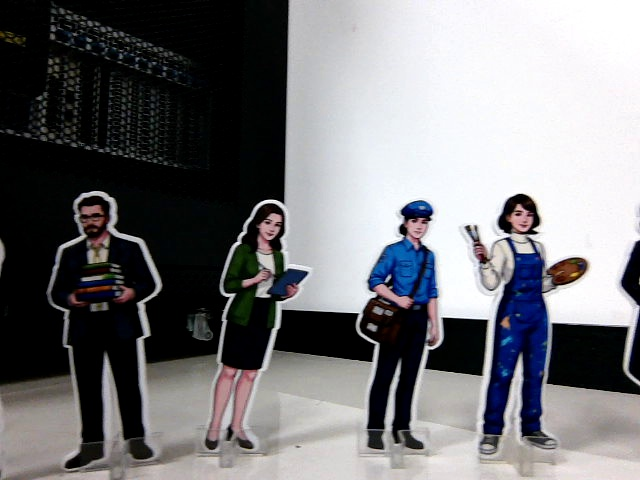community_person: (37, 180, 173, 480), (459, 185, 592, 472), (196, 191, 316, 471), (349, 192, 451, 469), (611, 186, 640, 473)
